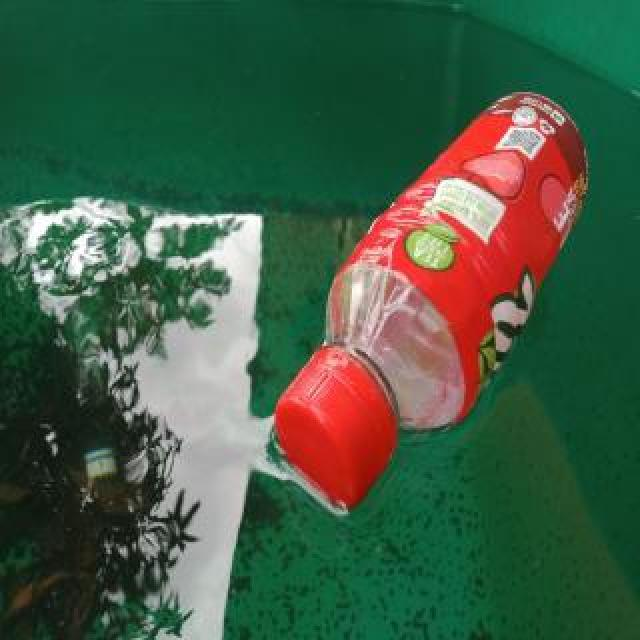bottle: (275, 87, 591, 511)
